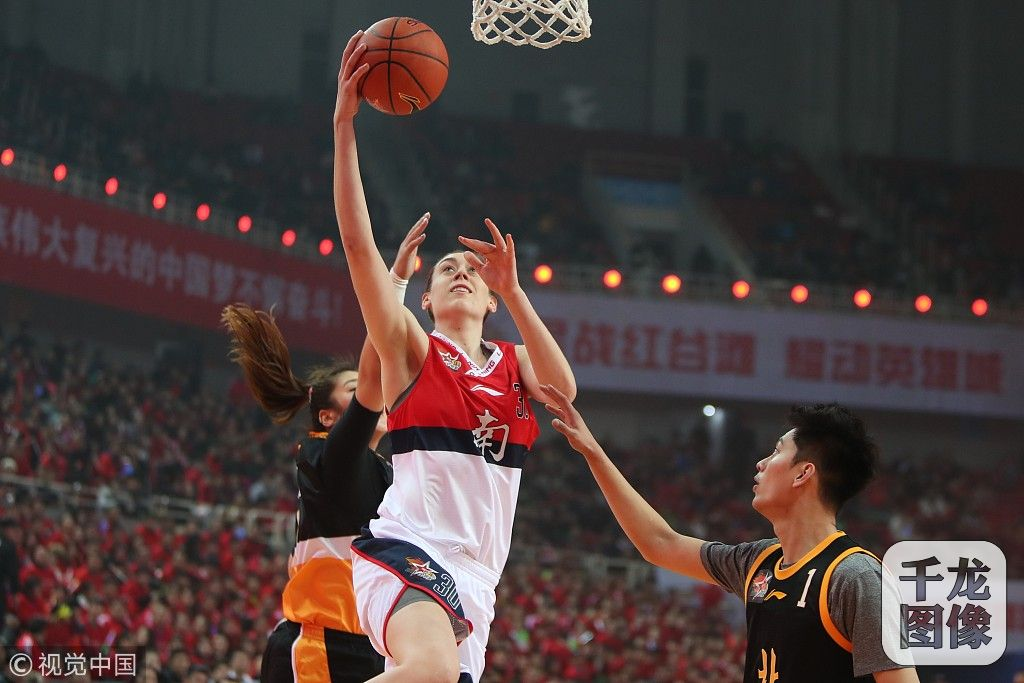ball: (352, 15, 450, 115)
